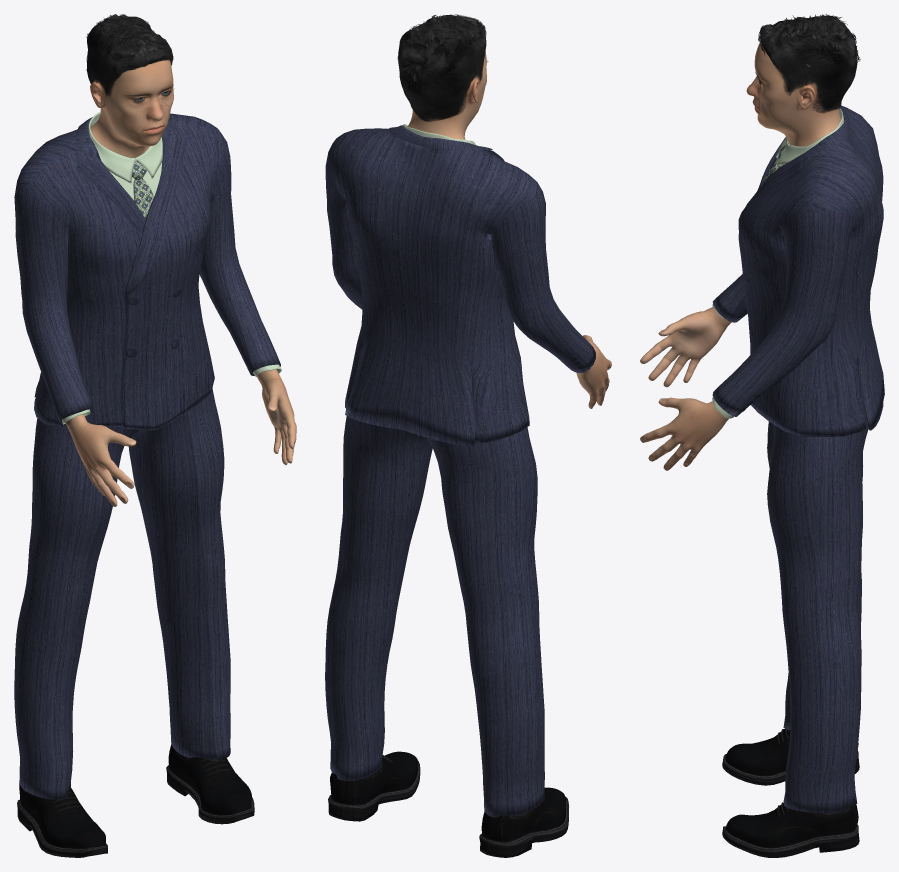
The model's file is uomo-05.glb.
3 views of the same model, side by side, from view 1: azimuth 30°, elevation 25°; view 2: azimuth 150°, elevation 25°; view 3: azimuth 270°, elevation 25° (orthographic).
Visible parts, largest first — view 1: Human.toigo_male_double-breasted_suit, Human, Human.shoes03, Human.short01; view 2: Human.toigo_male_double-breasted_suit, Human.shoes03, Human.short01, Human; view 3: Human.toigo_male_double-breasted_suit, Human, Human.shoes03, Human.short01.
Part boxes in pixels (bbox=[...]): Human.toigo_male_double-breasted_suit: bbox=[14, 111, 281, 799]; Human: bbox=[65, 55, 296, 506]; Human.shoes03: bbox=[17, 744, 254, 857]; Human.short01: bbox=[86, 14, 173, 97]; Human.toigo_male_double-breasted_suit: bbox=[325, 124, 595, 817]; Human.shoes03: bbox=[328, 751, 568, 857]; Human.short01: bbox=[397, 14, 486, 121]; Human: bbox=[407, 51, 611, 408]; Human.toigo_male_double-breasted_suit: bbox=[712, 105, 884, 813]; Human: bbox=[640, 42, 841, 470]; Human.shoes03: bbox=[722, 728, 859, 857]; Human.short01: bbox=[758, 14, 860, 113].
Size of the model in its own units: 0.5464 by 1.89 by 0.5309.
12 materials, 12 textured.
